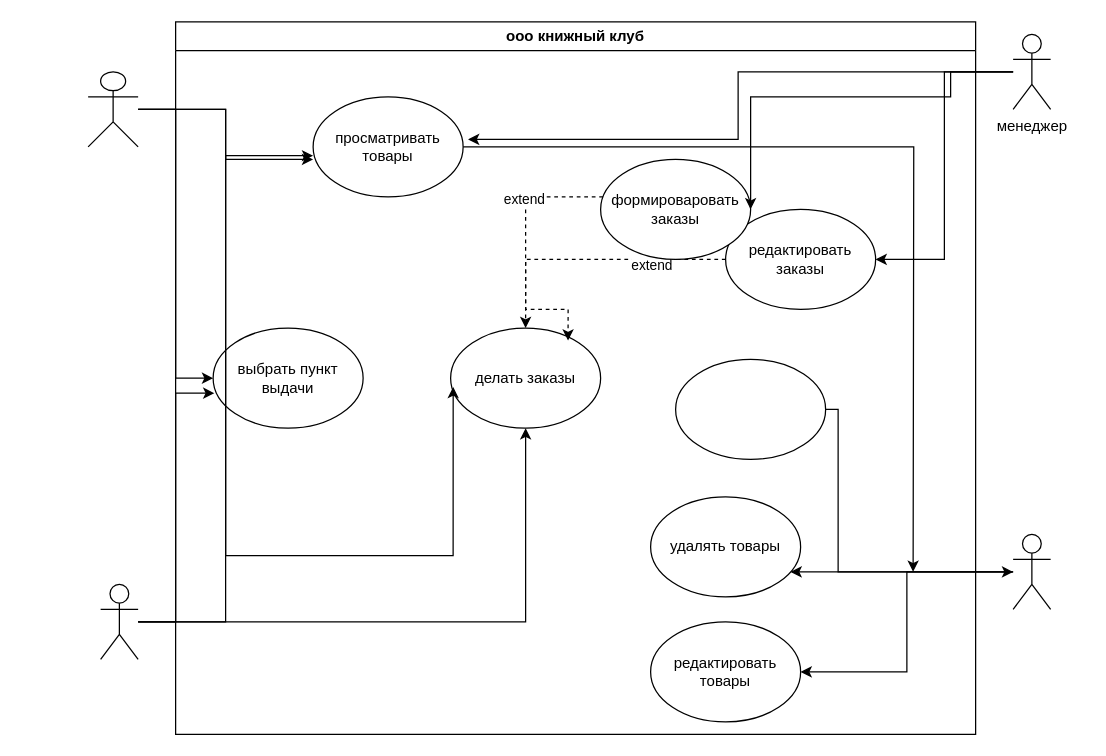
The diagram is 1106 pixels wide and 756 high, and some of its shapes have lost their labels. The centre of each missing label's shape, as x and y in pixels:
"авторизованный клиент" belongs at [118,621].
"администратор" belongs at [1031,571].
"добавлять товары" belongs at [750,408].
"неавторизованный клиент" belongs at [112,109].
